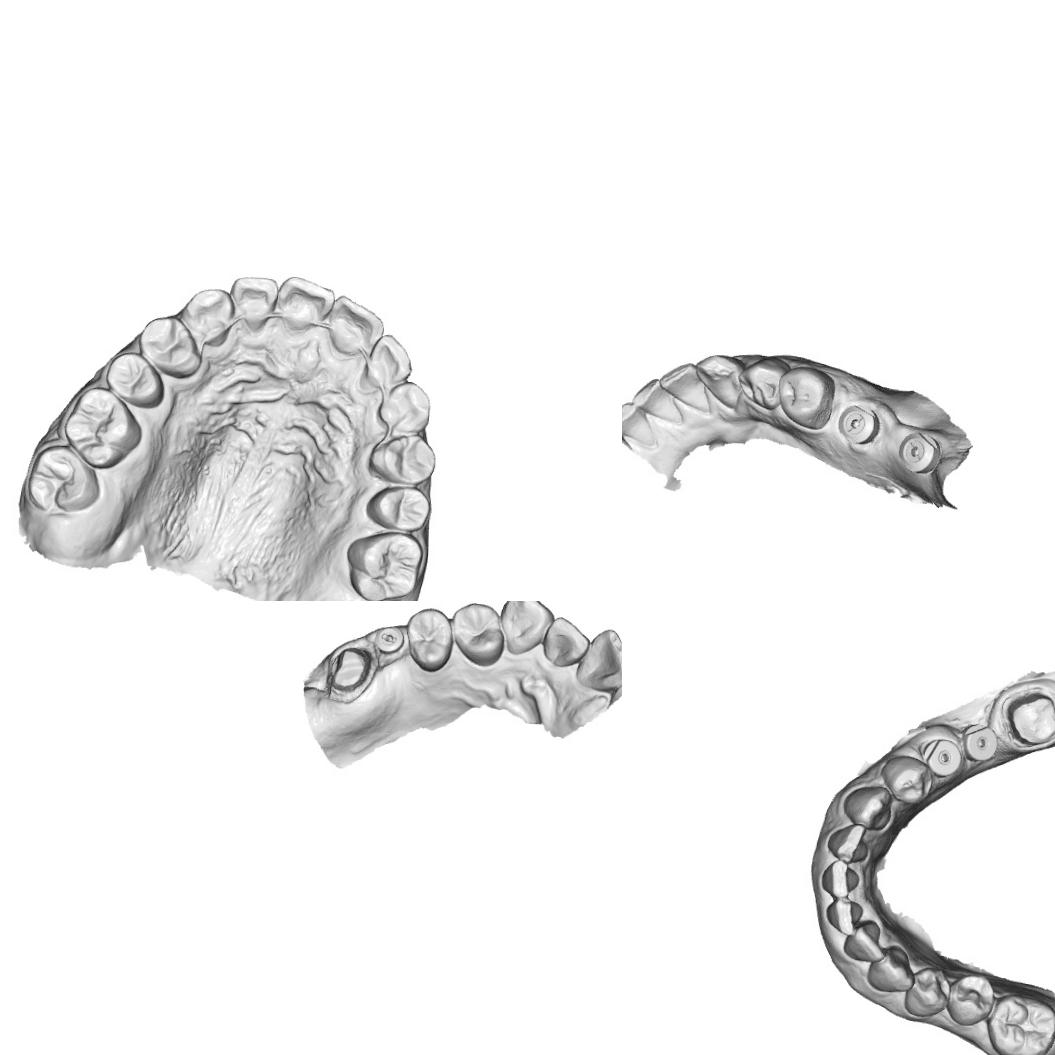canine: (692, 351, 748, 417), (180, 286, 234, 349), (496, 601, 555, 657), (375, 378, 433, 434), (866, 943, 918, 994), (840, 784, 894, 831)
crown: (999, 684, 1055, 750), (325, 642, 378, 704)
implant: (920, 736, 964, 778), (960, 720, 1000, 764)
implant_minus: (833, 402, 880, 448), (896, 431, 944, 473), (371, 623, 406, 657)
incisor: (326, 293, 386, 360), (274, 274, 336, 338), (573, 625, 622, 693), (361, 332, 415, 392), (228, 274, 280, 332), (633, 377, 689, 430), (542, 614, 592, 670), (842, 918, 888, 964), (661, 361, 710, 404), (825, 820, 872, 864), (818, 858, 862, 900), (622, 400, 656, 446), (824, 897, 864, 936)
molar: (60, 385, 145, 472), (342, 529, 425, 601), (26, 442, 102, 514), (984, 991, 1055, 1055)
premolar: (136, 312, 204, 380), (776, 365, 837, 431), (448, 601, 507, 668), (103, 350, 166, 410), (366, 433, 437, 485), (403, 605, 455, 675), (364, 484, 434, 533), (902, 963, 955, 1020), (878, 753, 934, 806), (946, 972, 993, 1028), (740, 359, 786, 408)
